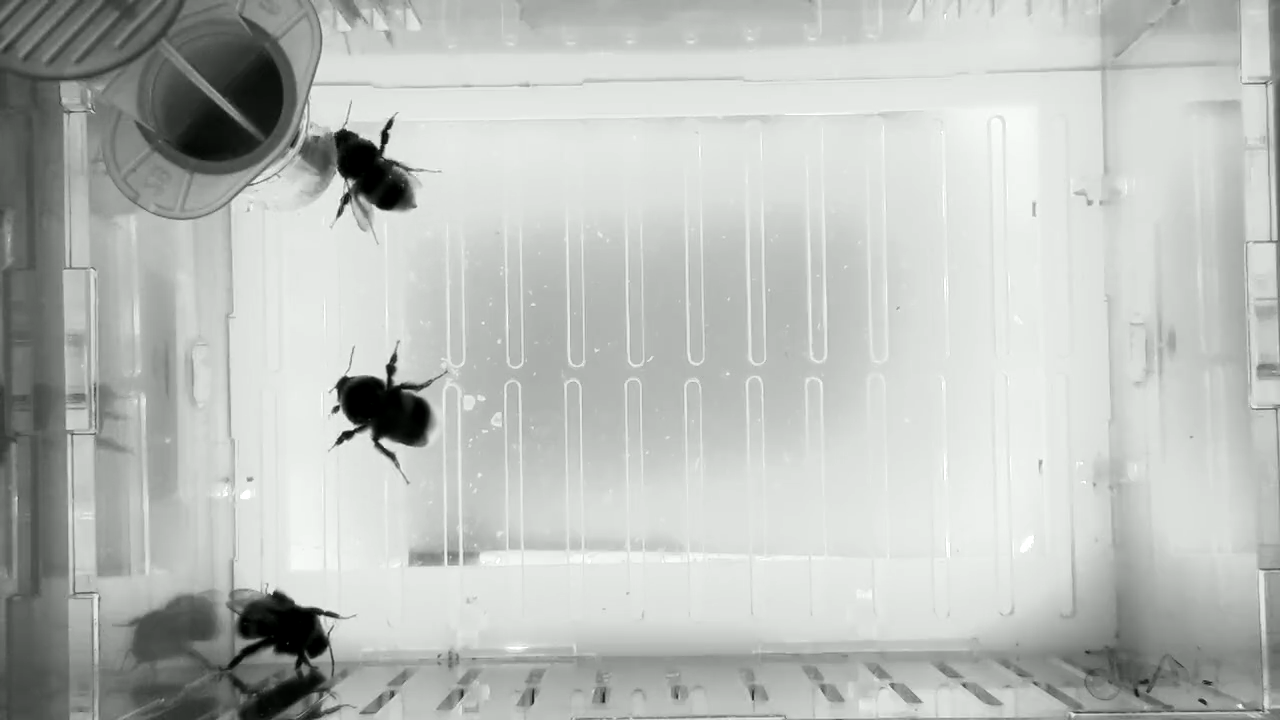bee: (322, 337, 455, 490), (328, 101, 447, 252), (221, 576, 362, 680)
feeder: (243, 93, 342, 218)
